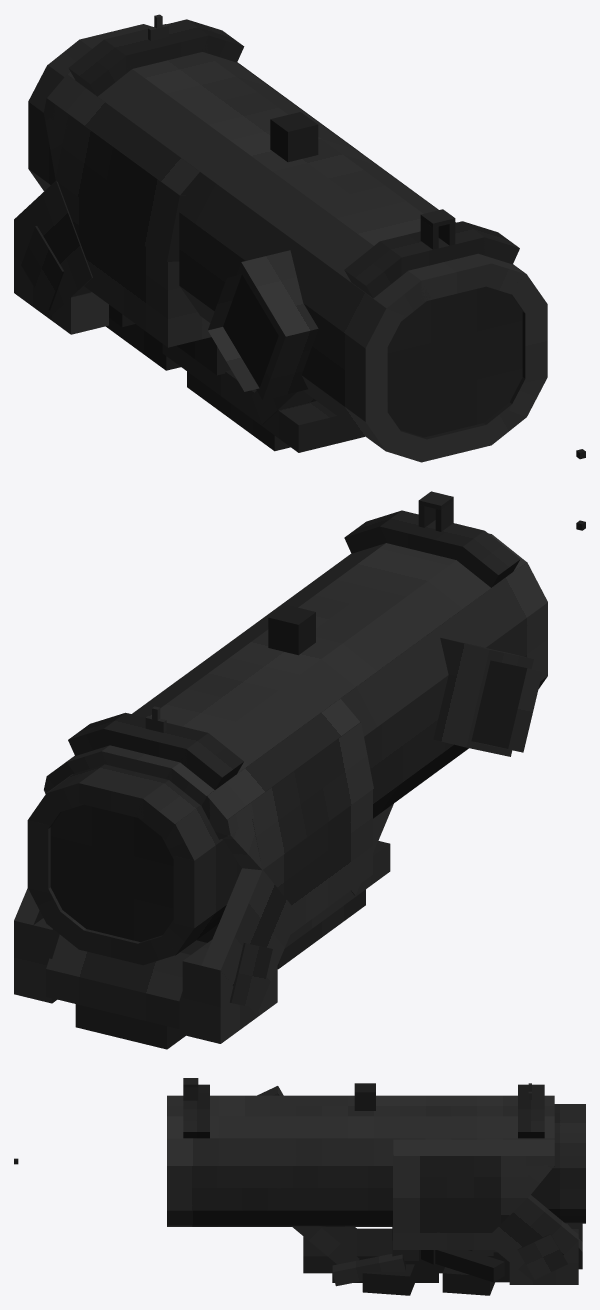
The model's file is j_eso.geo.fbx.
3 renders of one model, top to bottom at view 1: azimuth 30°, elevation 25°; view 2: azimuth 150°, elevation 25°; view 3: azimuth 270°, elevation 25°, orthographic. The views are drawn at different scales.
Parts seen in each view (by area): view 1: specter4, scopepip, _cb_scope; view 2: specter4, specter, _cb_scope; view 3: specter4, _cb_scope.
Boxes of the visible parts, left/top/right/bottom form: specter4: left=14, top=14, right=547, bottom=462; scopepip: left=387, top=286, right=522, bottom=437; _cb_scope: left=270, top=112, right=318, bottom=162; specter4: left=14, top=491, right=547, bottom=1049; specter: left=50, top=804, right=173, bottom=941; _cb_scope: left=268, top=604, right=315, bottom=655; specter4: left=167, top=1078, right=585, bottom=1295; _cb_scope: left=354, top=1083, right=375, bottom=1110.
Bounding box in the file's own units: 45.81 × 48.88 × 135.
Materials: 1 (1 with a texture image).
